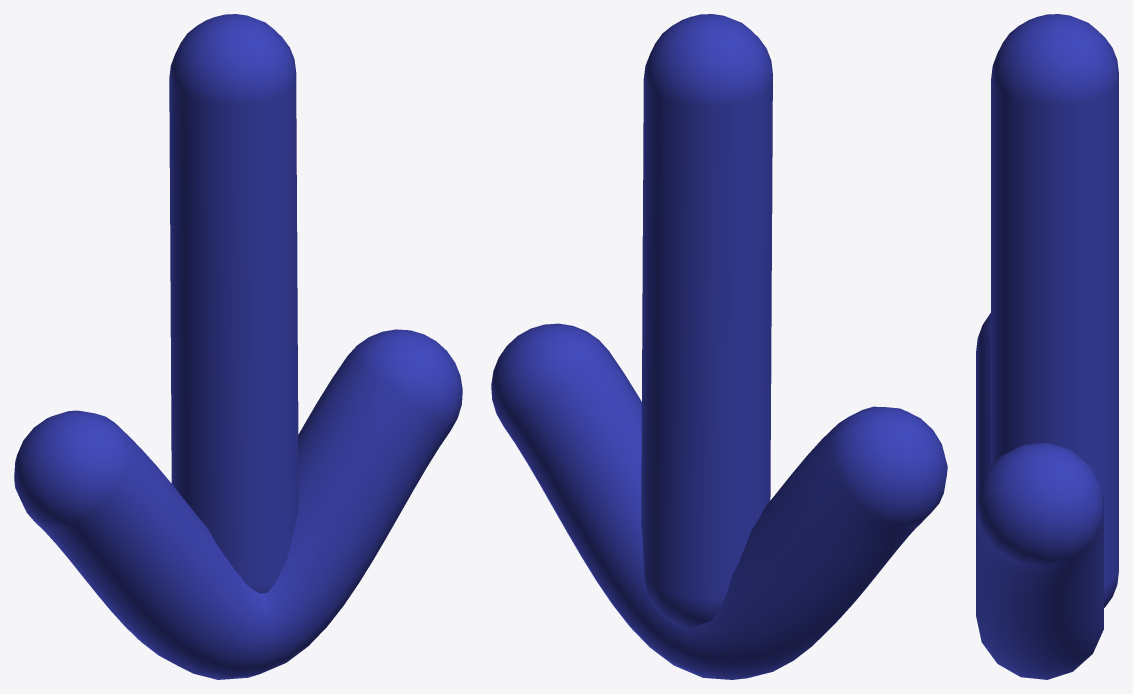
The model's file is Pfeil.fbx.
The picture shows the model from 3 angles, left to right: view 1: azimuth 30°, elevation 25°; view 2: azimuth 150°, elevation 25°; view 3: azimuth 270°, elevation 25°; orthographic projection.
Parts seen in each view (by area): view 1: node_id100 (×2); view 2: node_id100 (×2); view 3: node_id100 (×2).
Part boxes in pixels (bbox=[...]): node_id100 (×2): bbox=[14, 14, 462, 679]; node_id100 (×2): bbox=[491, 14, 947, 679]; node_id100 (×2): bbox=[976, 14, 1118, 679].
Bounding box in the file's own units: 0.233 × 0.3338 × 0.0663.
